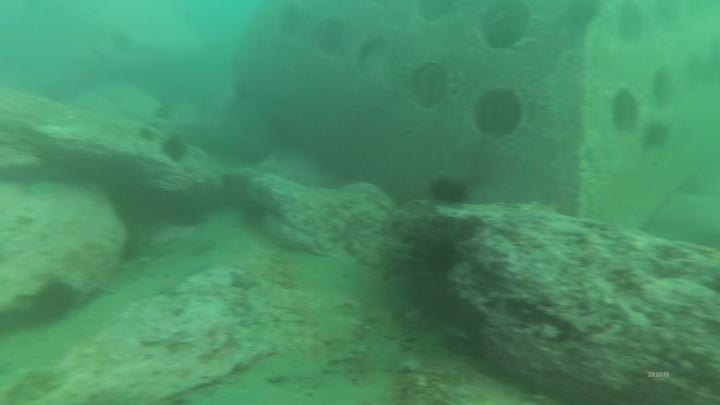echinus: (434, 170, 472, 209), (164, 130, 188, 166)
starfish: (228, 267, 265, 297)
